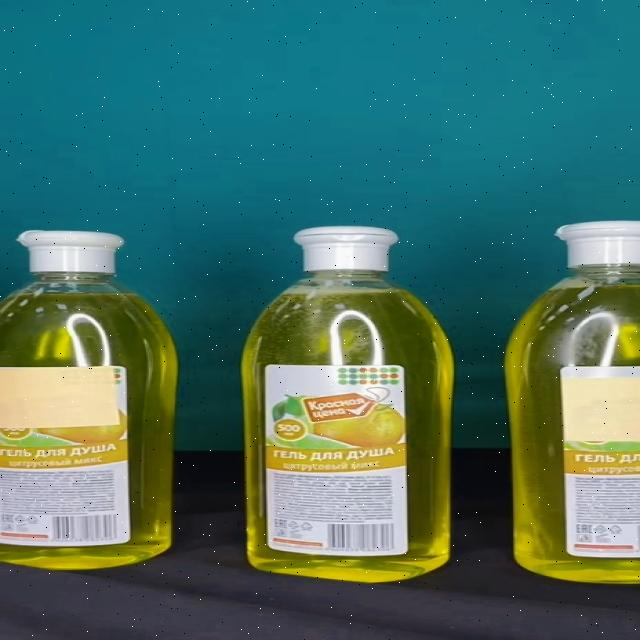Bottle: (241, 226, 453, 584), (0, 231, 178, 570)
Cap: (18, 230, 123, 274), (294, 227, 398, 270)
